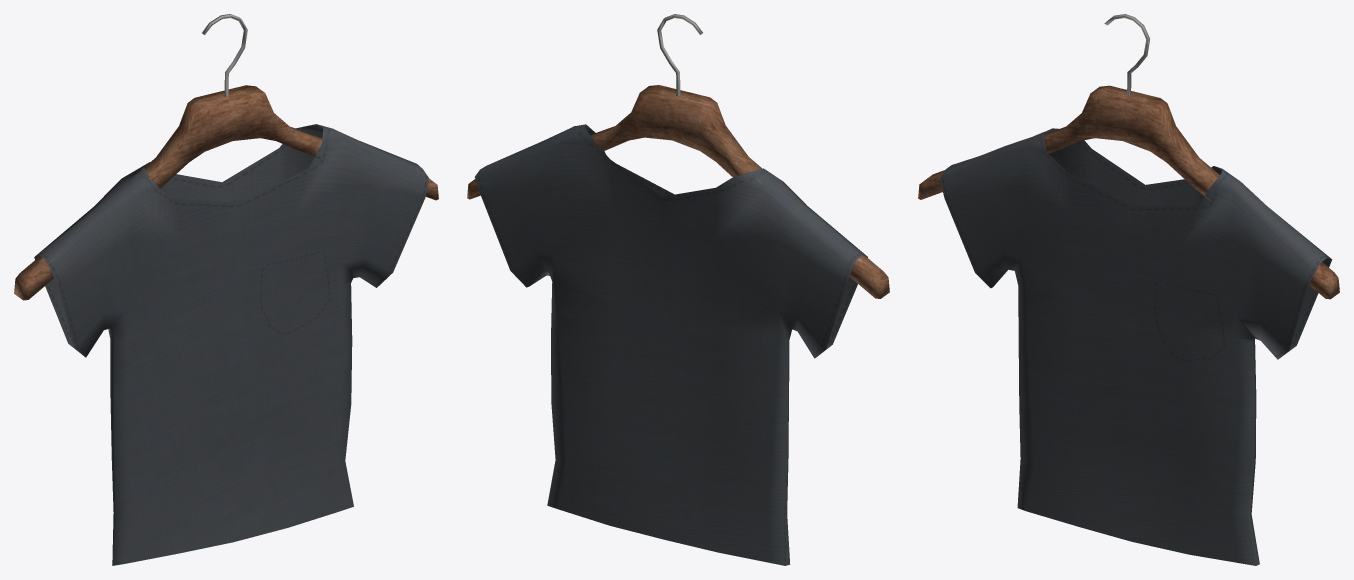
The model's file is clothe2.fbx.
3 renders of one model, left to right at view 1: azimuth 30°, elevation 25°; view 2: azimuth 150°, elevation 25°; view 3: azimuth 330°, elevation 25°, orthographic.
Visible parts, largest first — view 1: clothes2, Hanger2; view 2: clothes2, Hanger2; view 3: clothes2, Hanger2.
Boxes of the visible parts, <box> form: clothes2: <box>34,124,429,565</box>; Hanger2: <box>14,14,438,300</box>; clothes2: <box>475,124,867,565</box>; Hanger2: <box>467,14,889,298</box>; clothes2: <box>940,128,1332,565</box>; Hanger2: <box>918,14,1339,299</box>.
Bounding box in the file's own units: 44.11 × 53.44 × 3.94.
2 materials, 2 textured.
